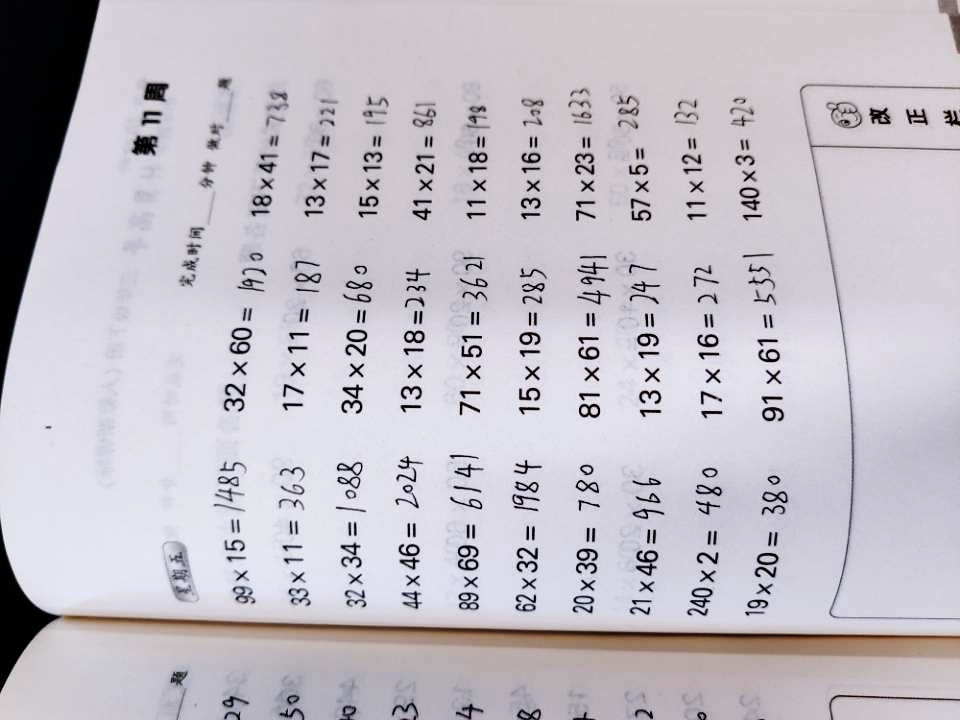equation: (209, 232, 270, 416), (563, 244, 616, 427), (395, 54, 448, 237), (350, 56, 403, 239), (300, 52, 353, 235), (554, 56, 607, 239), (504, 62, 557, 245), (454, 54, 507, 237), (503, 441, 556, 624), (442, 436, 495, 619), (383, 435, 436, 618), (325, 429, 378, 612), (720, 56, 773, 239), (668, 57, 721, 240), (611, 50, 664, 233), (737, 456, 790, 639), (683, 253, 736, 436), (623, 246, 676, 429), (739, 248, 792, 431), (674, 442, 727, 625), (619, 440, 672, 623), (561, 442, 614, 625), (209, 446, 262, 613), (331, 254, 384, 421), (276, 249, 329, 416), (269, 447, 322, 614), (503, 253, 556, 420), (445, 252, 498, 419), (387, 257, 440, 424), (238, 77, 296, 224)
